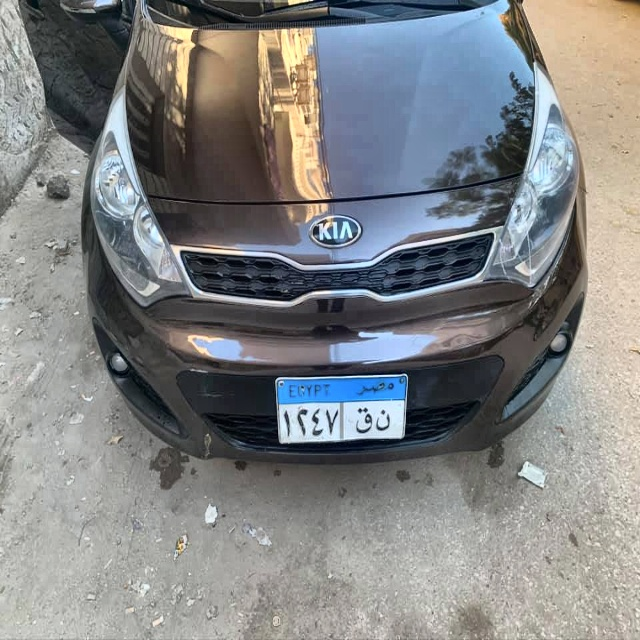License Plate: (274, 372, 409, 450)
